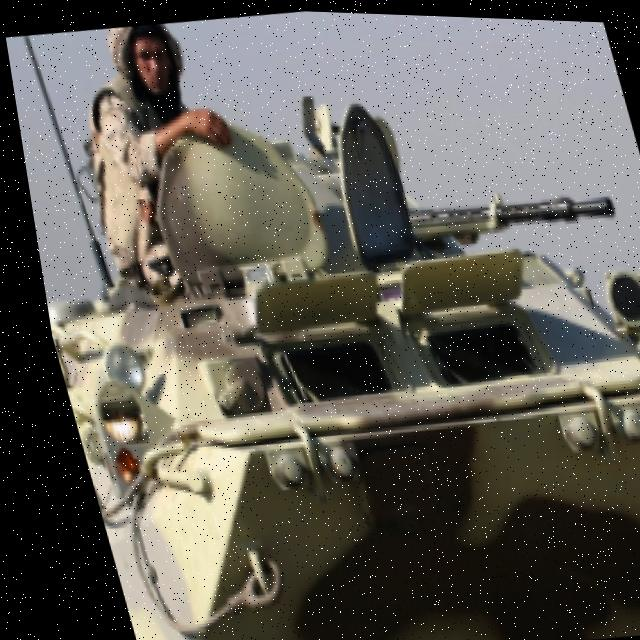MIL_APC: (20, 165, 640, 640)
